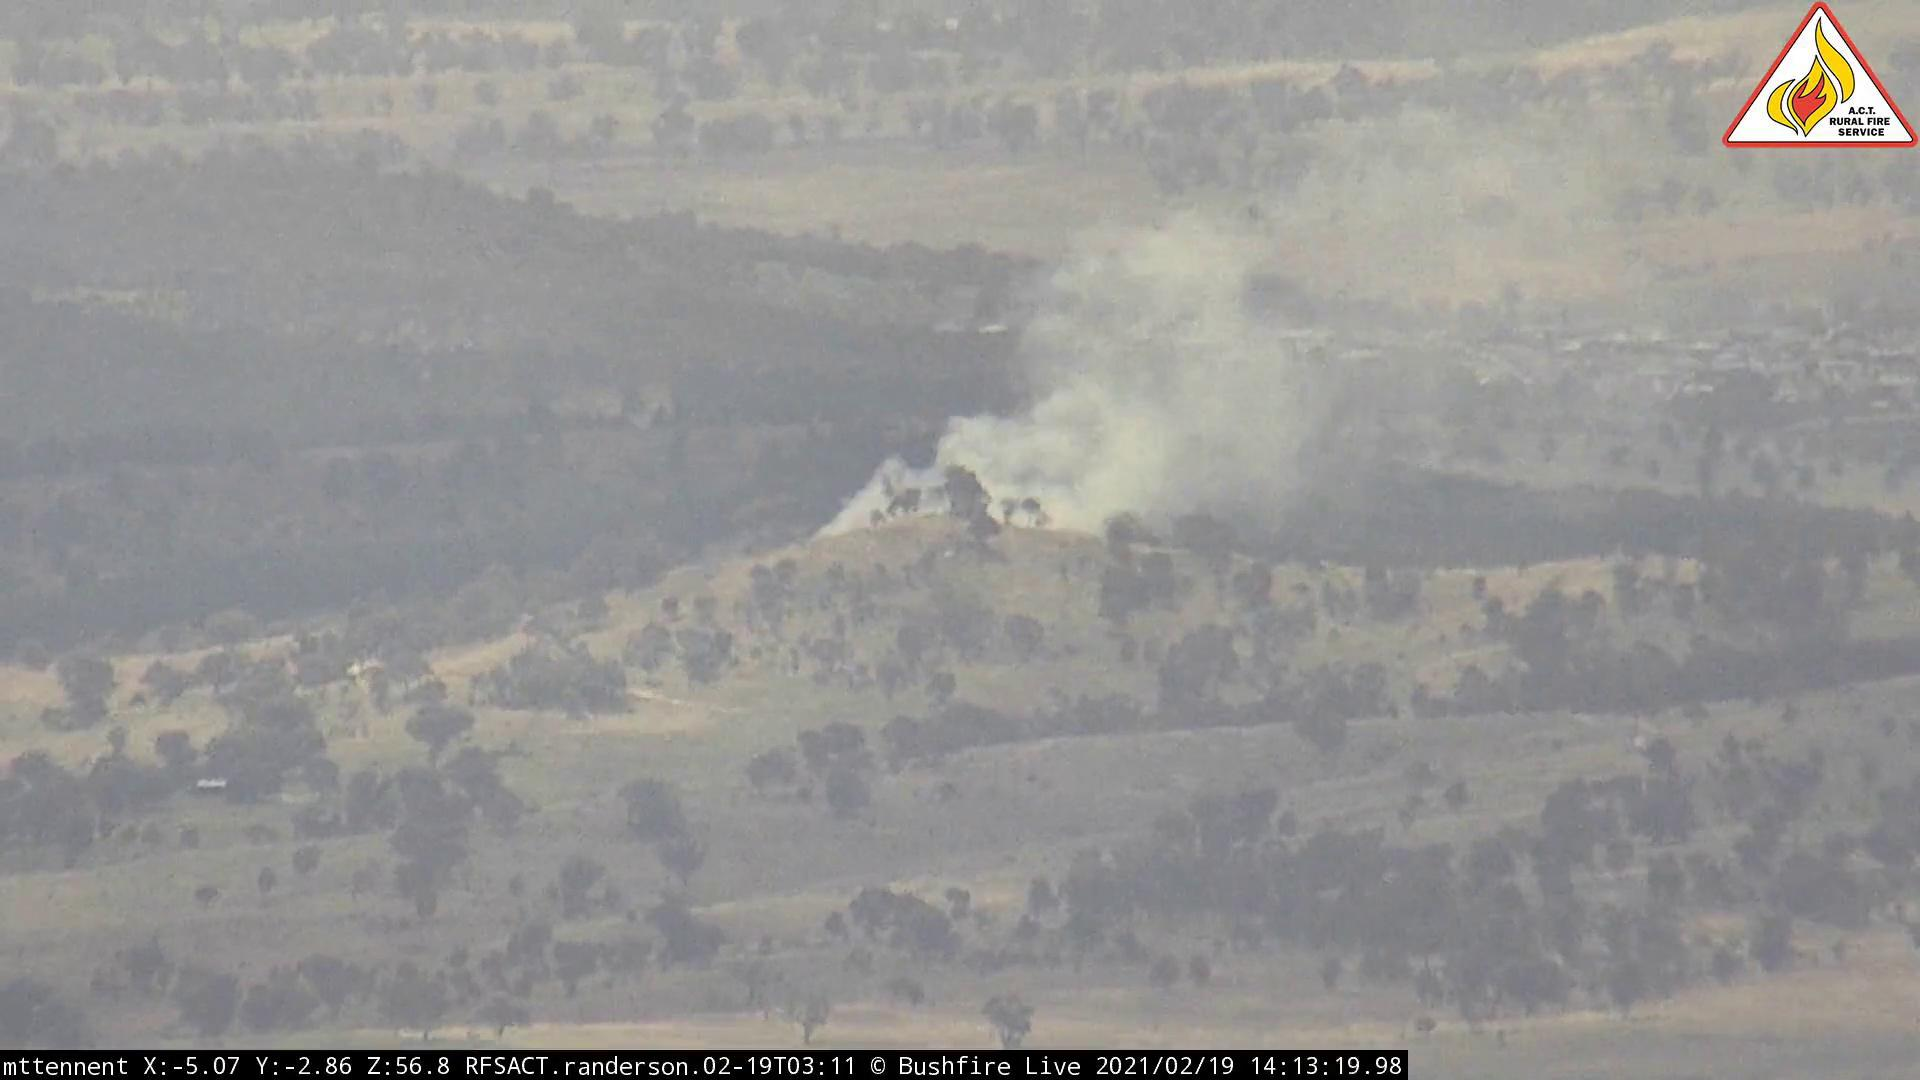Smoke: (794, 204, 1453, 564)
